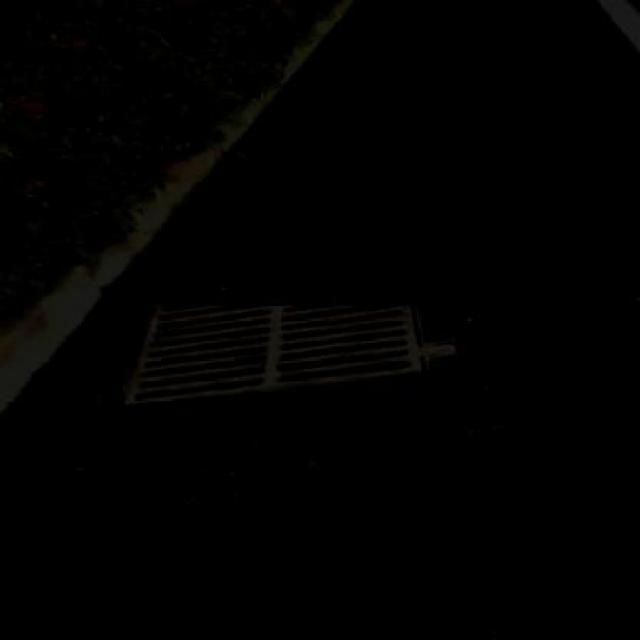Manhole: (123, 296, 279, 409), (286, 304, 420, 401)
